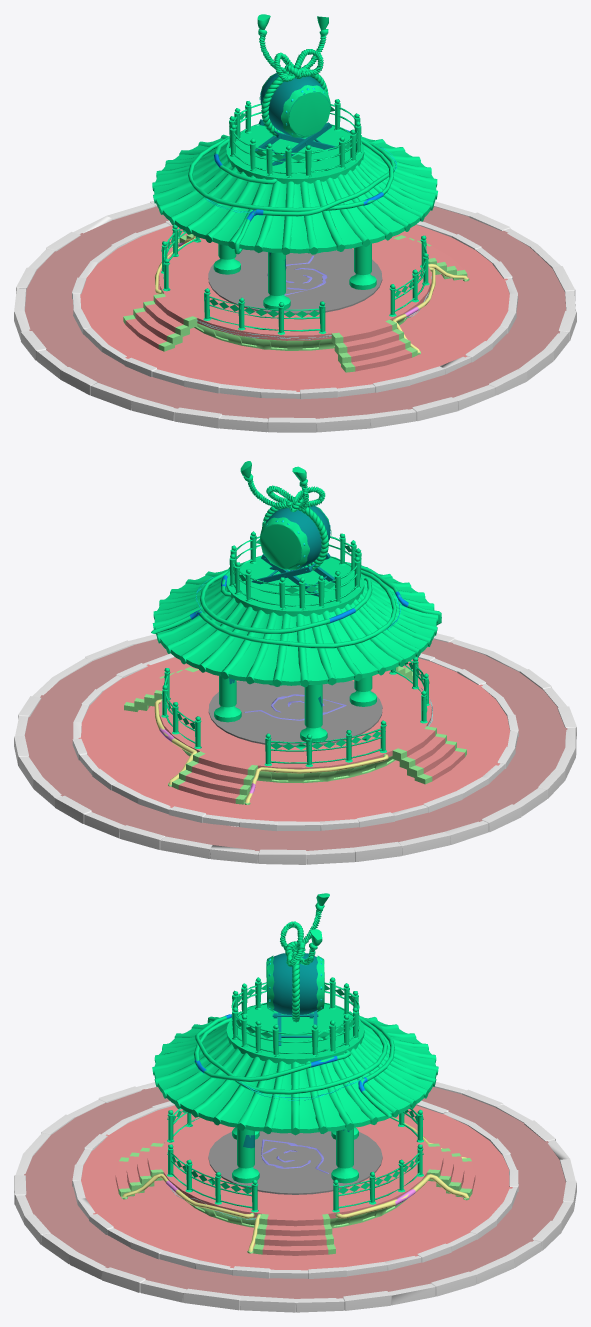
The model's file is SM_ENV_LKNVLD_Event_HL_WoodenStage_A_Lod3.gltf.
3 renders of one model, top to bottom at view 1: azimuth 30°, elevation 25°; view 2: azimuth 150°, elevation 25°; view 3: azimuth 270°, elevation 25°, orthographic.
Visible parts, largest first — view 1: SM_ENV_LKNVLD_Event_HL_WoodenStage_A_Lod3; view 2: SM_ENV_LKNVLD_Event_HL_WoodenStage_A_Lod3; view 3: SM_ENV_LKNVLD_Event_HL_WoodenStage_A_Lod3.
Boxes of the visible parts, left/top/right/bottom form: SM_ENV_LKNVLD_Event_HL_WoodenStage_A_Lod3: left=14, top=14, right=576, bottom=432; SM_ENV_LKNVLD_Event_HL_WoodenStage_A_Lod3: left=14, top=461, right=576, bottom=864; SM_ENV_LKNVLD_Event_HL_WoodenStage_A_Lod3: left=14, top=893, right=576, bottom=1312.
Bounding box in the file's own units: 19.17 × 10.94 × 19.18.
